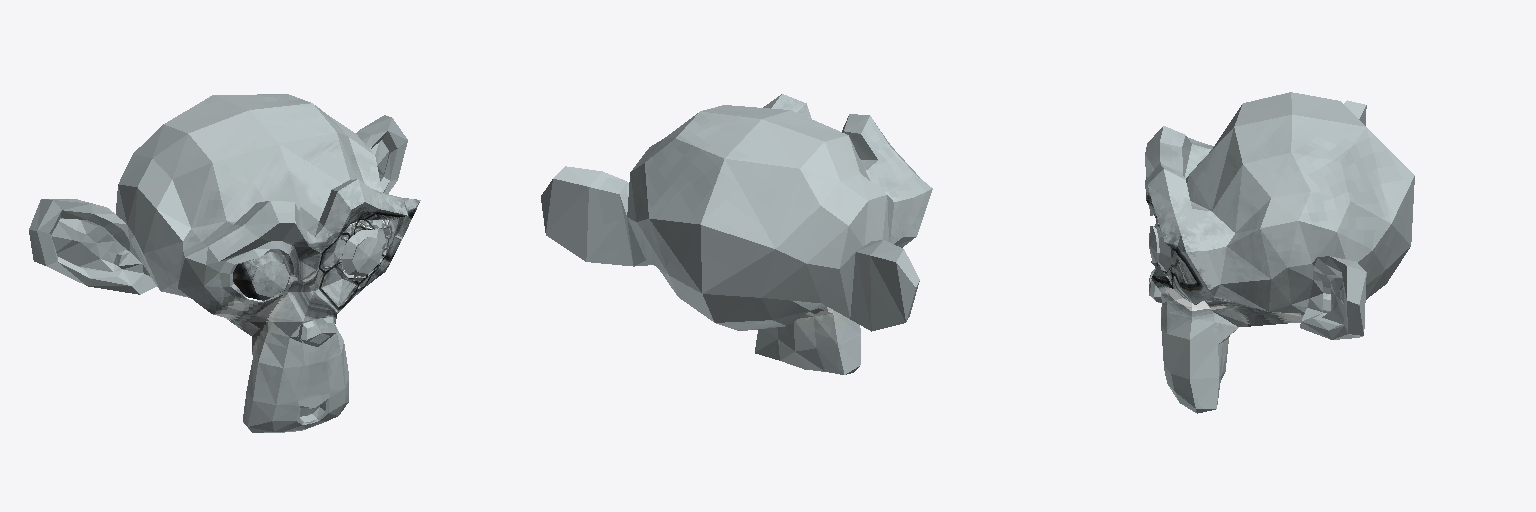
3 views of the same model, side by side, from view 1: azimuth 30°, elevation 25°; view 2: azimuth 150°, elevation 25°; view 3: azimuth 270°, elevation 25° (orthographic).
Parts seen in each view (by area): view 1: suzanne.001; view 2: suzanne.001; view 3: suzanne.001.
Boxes of the visible parts, box(x1,y1,x2,y2) form: suzanne.001: box(29, 94, 420, 432); suzanne.001: box(541, 94, 932, 374); suzanne.001: box(1145, 92, 1414, 413).
Size of the model in its own units: 2.73 by 1.97 by 1.7.
Materials: 1 (1 with a texture image).